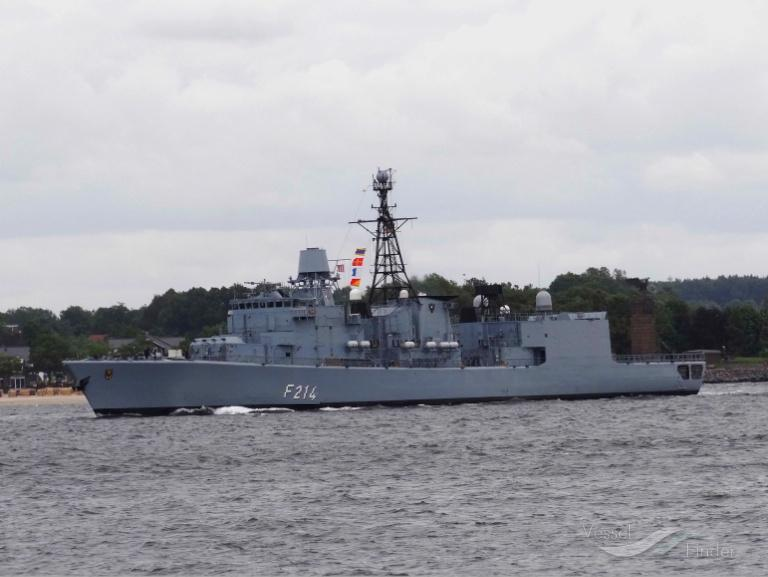OCR: (272, 376, 324, 404)
